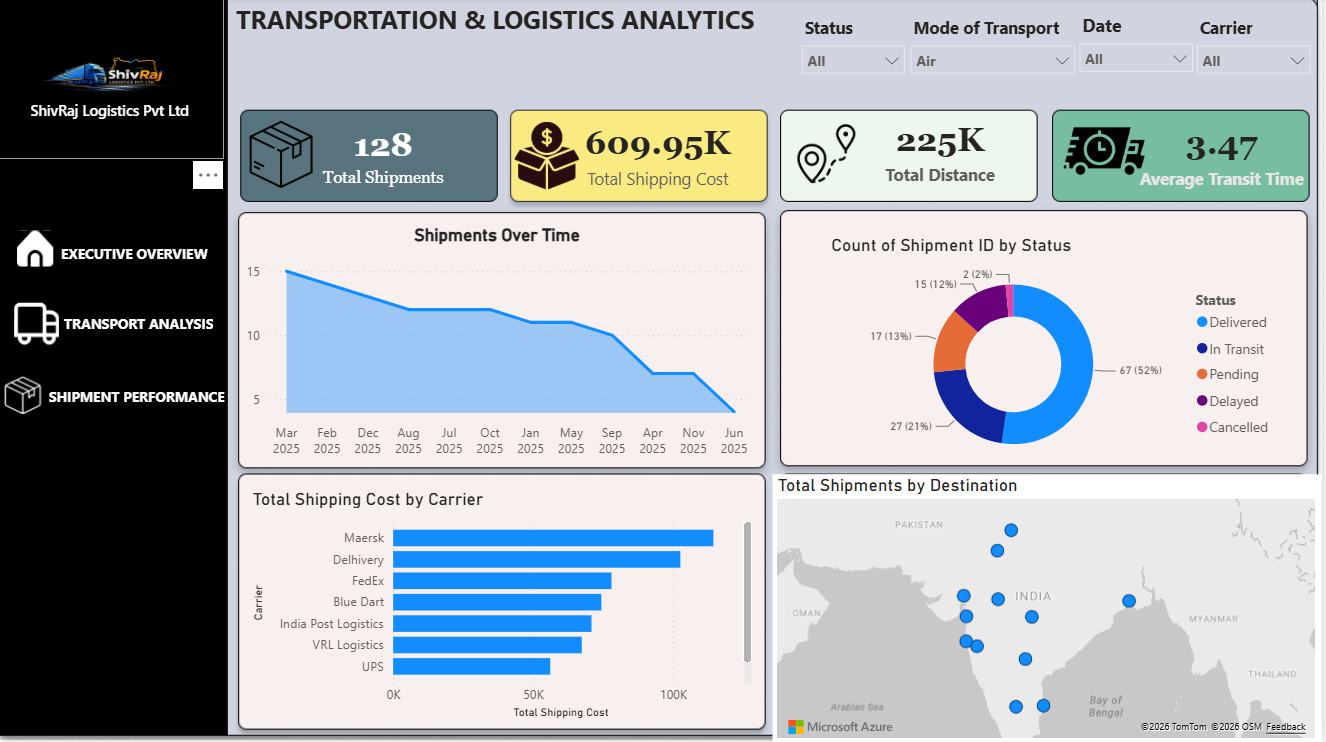

Layout of this report page (visuals, bound fields, positions):
{"tool":"powerbi","page":{"name":"EXECUTIVE OVERVIEW","canvas":[1280,720],"ordinal":0},"visuals":[{"type":"image","box":[0,0,220.7,155.8],"z":0},{"type":"textbox","box":[25,94.1,170.6,32.4],"z":1000},{"type":"textbox","box":[195.4,0,574.7,53.6],"z":2000},{"type":"card","fields":{"Values":["TransportLogisticsTable.Total Shipments"]},"box":[242.6,77.9,264.7,142.6],"z":3000},{"type":"card","fields":{"Values":["TransportLogisticsTable.Total Shipping Cost"]},"box":[529.4,70.6,220.6,157.4],"z":4000},{"type":"actionButton","box":[8.7,215,207.8,54.8],"z":5000},{"type":"actionButton","box":[11.5,288.6,207.8,51.9],"z":6000},{"type":"actionButton","box":[4.3,360.7,220.7,46.2],"z":7000},{"type":"image","box":[749.9,121.6,104.2,56.5],"z":8000},{"type":"card","fields":{"Values":["TransportLogisticsTable.Total Distance"]},"box":[802,70.9,220,150.6],"z":9000},{"type":"image","box":[993.1,108.6,154.9,78.2],"z":10000},{"type":"card","fields":{"Values":["TransportLogisticsTable.Average Transit Time"]},"box":[1070.5,77.9,207.8,144.3],"z":11000},{"type":"areaChart","title":"Shipments Over Time","fields":{"Category":["Date Table.Month Year"],"Y":["TransportLogisticsTable.Total Shipments"]},"box":[232.3,217.9,503.5,232.3],"z":12000},{"type":"slicer","fields":{"Values":["TransportLogisticsTable.Carrier"]},"box":[1150.2,11.5,129.8,63.5],"z":13000},{"type":"donutChart","fields":{"Category":["TransportLogisticsTable.Status"],"Y":["CountNonNull(TransportLogisticsTable.Shipment ID)"]},"box":[802.2,228,441.5,232.3],"z":14000},{"type":"barChart","fields":{"Y":["TransportLogisticsTable.Total Shipping Cost"],"Category":["TransportLogisticsTable.Carrier"]},"box":[243.8,473.2,492,228],"z":15000},{"type":"slicer","fields":{"Values":["TransportLogisticsTable.Date"]},"box":[1035.9,10.1,129.8,63.5],"z":16000},{"type":"slicer","fields":{"Values":["TransportLogisticsTable.Mode of Transport"]},"box":[872.9,11.5,178.9,63.5],"z":17000},{"type":"slicer","fields":{"Values":["TransportLogisticsTable.Status"]},"box":[769,11.5,119.7,63.5],"z":18000},{"type":"azureMap","fields":{"Category":["TransportLogisticsTable.Destination"],"Y":["TransportLogisticsTable.Total Shipments"]},"box":[750.2,460.2,529.5,259.7],"z":19000},{"type":"image","box":[496.3,109.6,73.6,82.2],"z":20000},{"type":"image","box":[243.8,109.6,64.9,82.2],"z":21000}]}

Visuals, with their boxes on the page's 1280x720 design canvas (x1, y1, x2, y2). These are canvas units, not pixel positions in the 1326x742 screenshot, which may show the page scaled, cropped or inside an application window:
image: box(0, 0, 221, 156)
textbox: box(25, 94, 196, 126)
textbox: box(195, 0, 770, 54)
card - TransportLogisticsTable.Total Shipments: box(243, 78, 507, 220)
card - TransportLogisticsTable.Total Shipping Cost: box(529, 71, 750, 228)
actionButton: box(9, 215, 216, 270)
actionButton: box(12, 289, 219, 340)
actionButton: box(4, 361, 225, 407)
image: box(750, 122, 854, 178)
card - TransportLogisticsTable.Total Distance: box(802, 71, 1022, 222)
image: box(993, 109, 1148, 187)
card - TransportLogisticsTable.Average Transit Time: box(1070, 78, 1278, 222)
"Shipments Over Time" areaChart: box(232, 218, 736, 450)
slicer - TransportLogisticsTable.Carrier: box(1150, 12, 1280, 75)
donutChart - TransportLogisticsTable.Status x CountNonNull(TransportLogisticsTable.Shipment ID): box(802, 228, 1244, 460)
barChart - TransportLogisticsTable.Total Shipping Cost x TransportLogisticsTable.Carrier: box(244, 473, 736, 701)
slicer - TransportLogisticsTable.Date: box(1036, 10, 1166, 74)
slicer - TransportLogisticsTable.Mode of Transport: box(873, 12, 1052, 75)
slicer - TransportLogisticsTable.Status: box(769, 12, 889, 75)
azureMap - TransportLogisticsTable.Destination x TransportLogisticsTable.Total Shipments: box(750, 460, 1280, 720)
image: box(496, 110, 570, 192)
image: box(244, 110, 309, 192)
